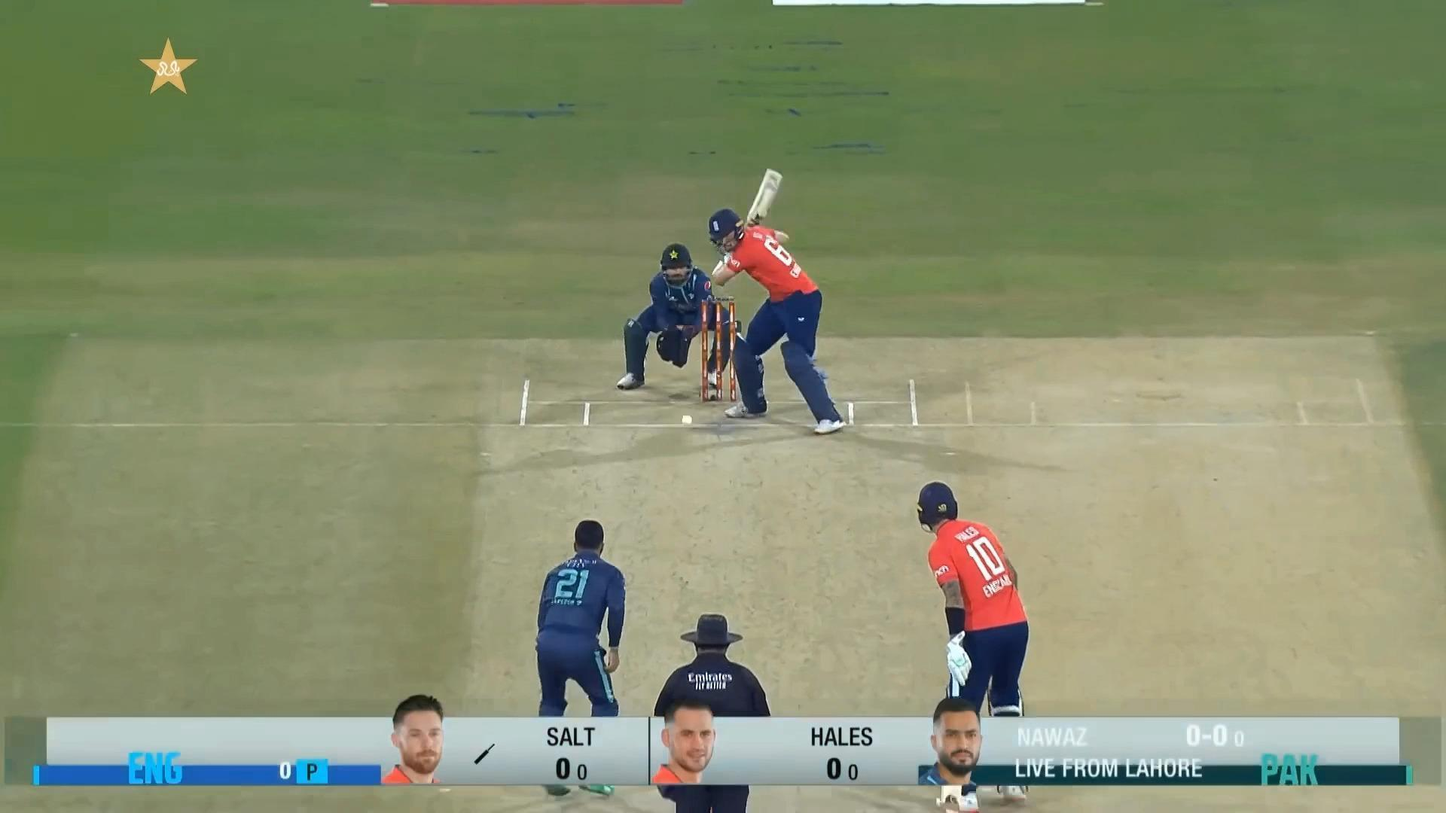BM 1: (709, 168, 846, 436)
BO: (532, 517, 628, 797)
